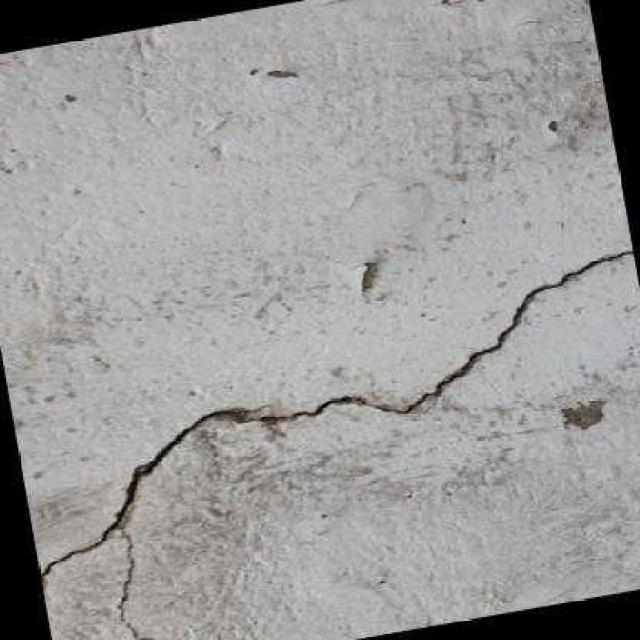D00: (39, 249, 633, 640)
